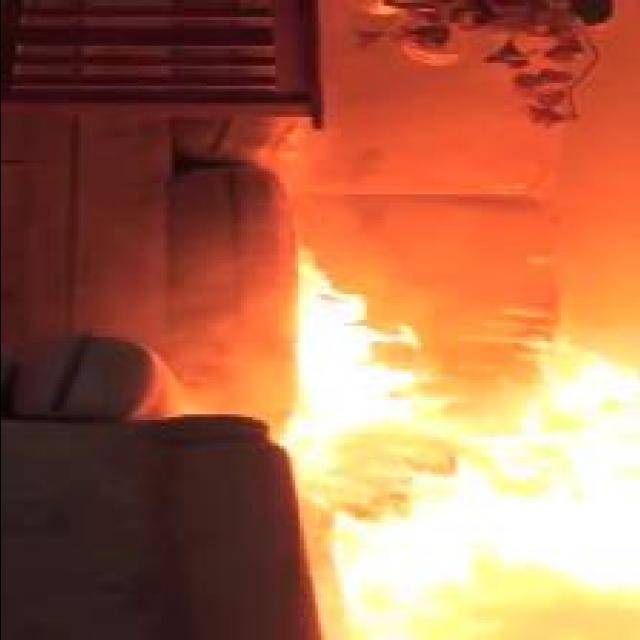Fire: (275, 245, 640, 640)
